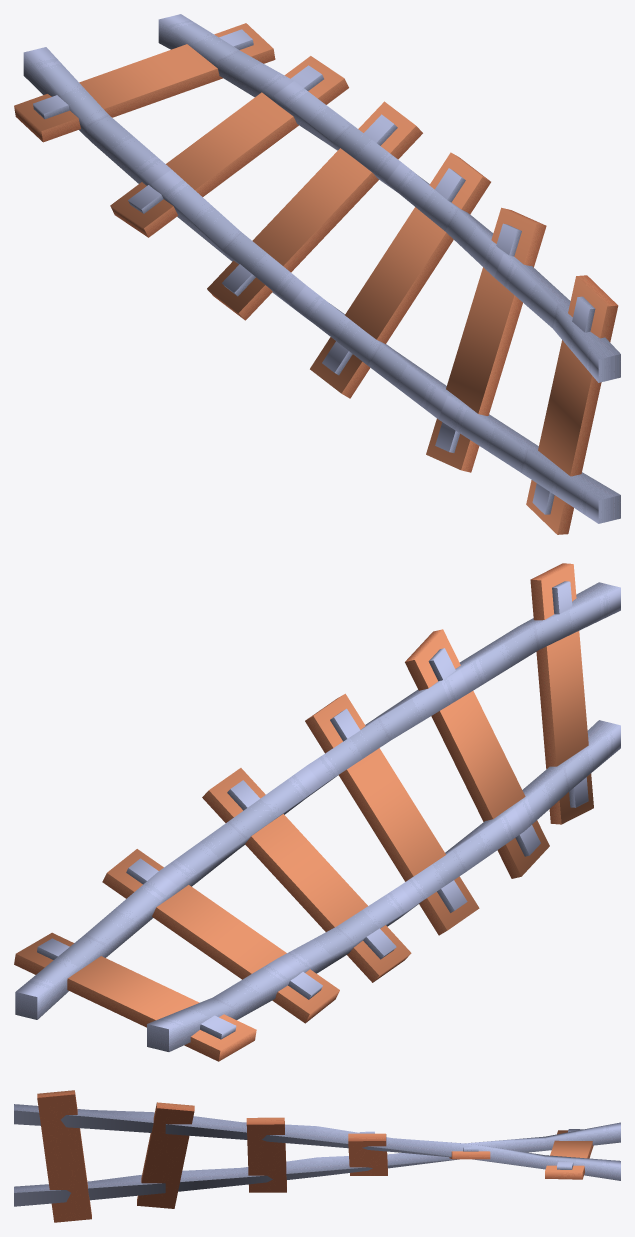
The model's file is railroad-damaged-straight-skew-right-side.glb.
The picture shows the model from 3 angles, top to bottom: view 1: azimuth 30°, elevation 25°; view 2: azimuth 150°, elevation 25°; view 3: azimuth 270°, elevation 25°; orthographic projection. The views are drawn at different scales.
Parts seen in each view (by area): view 1: railroad-damaged-straight-skew-right-side; view 2: railroad-damaged-straight-skew-right-side; view 3: railroad-damaged-straight-skew-right-side.
Boxes of the visible parts, bbox=[...] form: railroad-damaged-straight-skew-right-side: bbox=[14, 14, 620, 534]; railroad-damaged-straight-skew-right-side: bbox=[14, 563, 620, 1061]; railroad-damaged-straight-skew-right-side: bbox=[14, 1090, 620, 1222].
Size of the model in its own units: 1.01 by 1.02 by 4.
Materials: 1 (1 with a texture image).
